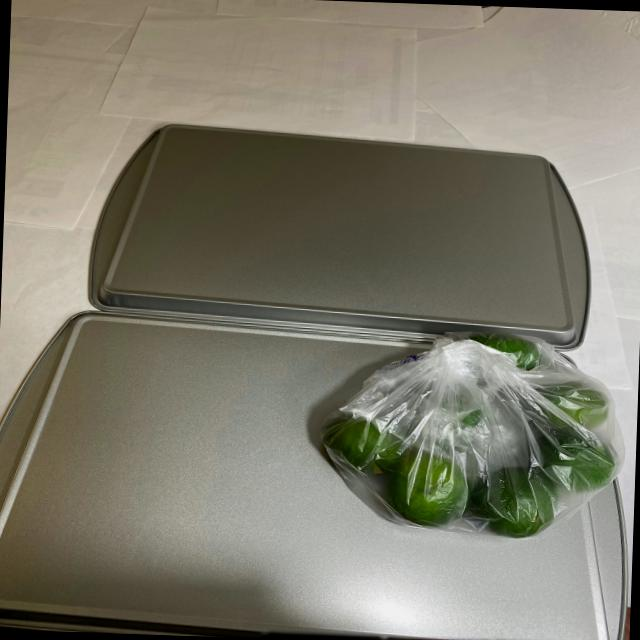lemon: (322, 322, 619, 542)
